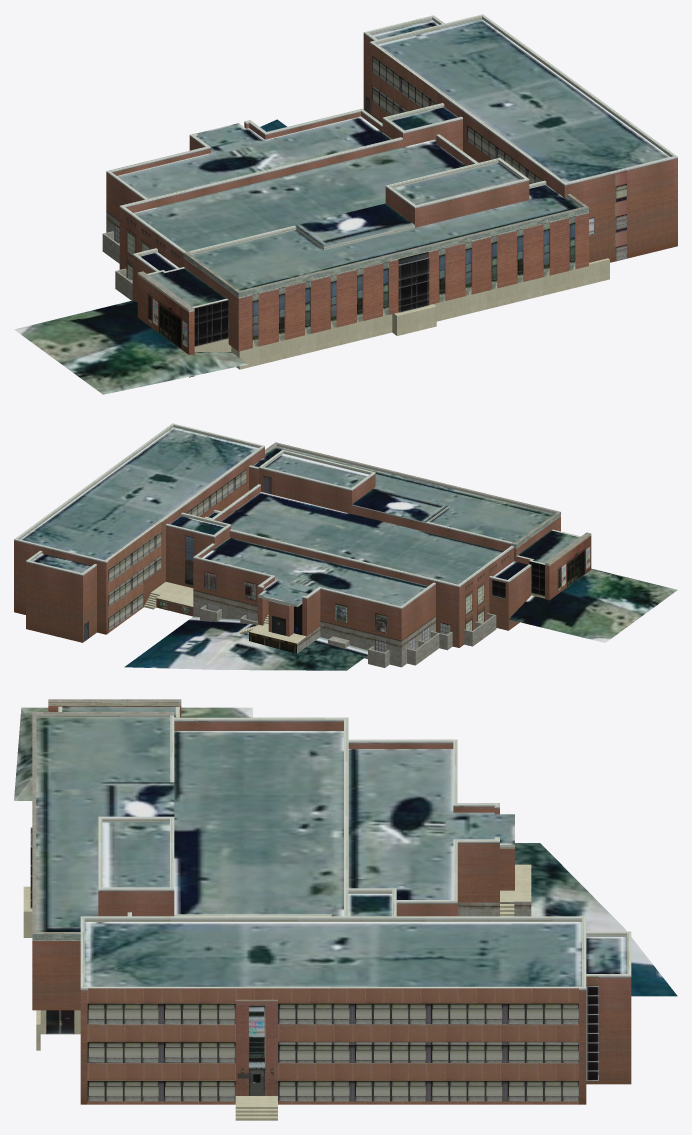
File: Building4.dae
The picture shows the model from 3 angles, top to bottom: view 1: azimuth 30°, elevation 25°; view 2: azimuth 150°, elevation 25°; view 3: azimuth 270°, elevation 25°; orthographic projection. The views are drawn at different scales.
Parts seen in each view (by area): view 1: Hamilton_Hall (×28); view 2: Hamilton_Hall (×35); view 3: Hamilton_Hall (×40).
Boxes of the visible parts, box(x1,y1,x2,y2) form: Hamilton_Hall (×28): box(14, 14, 677, 394); Hamilton_Hall (×35): box(14, 423, 677, 670); Hamilton_Hall (×40): box(14, 702, 677, 1120).
Size of the model in its own units: 2641 by 1877 by 391.
37 materials, 36 textured.
